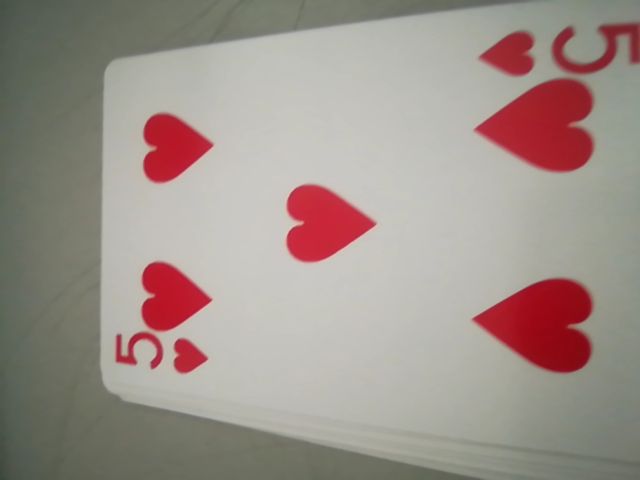hx 5: (475, 13, 640, 82), (109, 326, 213, 386)
